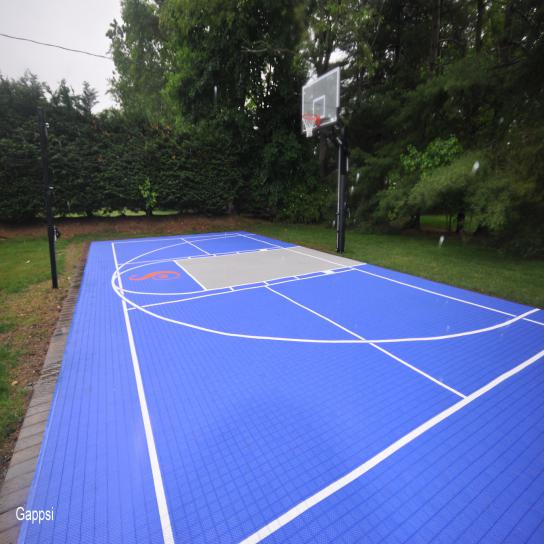basketball-hoop: (302, 113, 318, 138)
